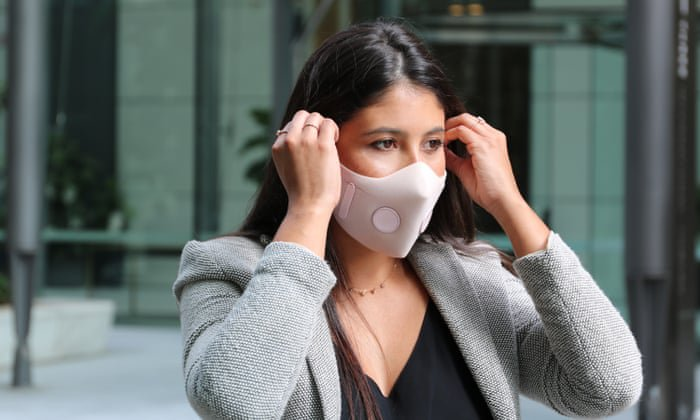mask: (289, 14, 466, 263)
